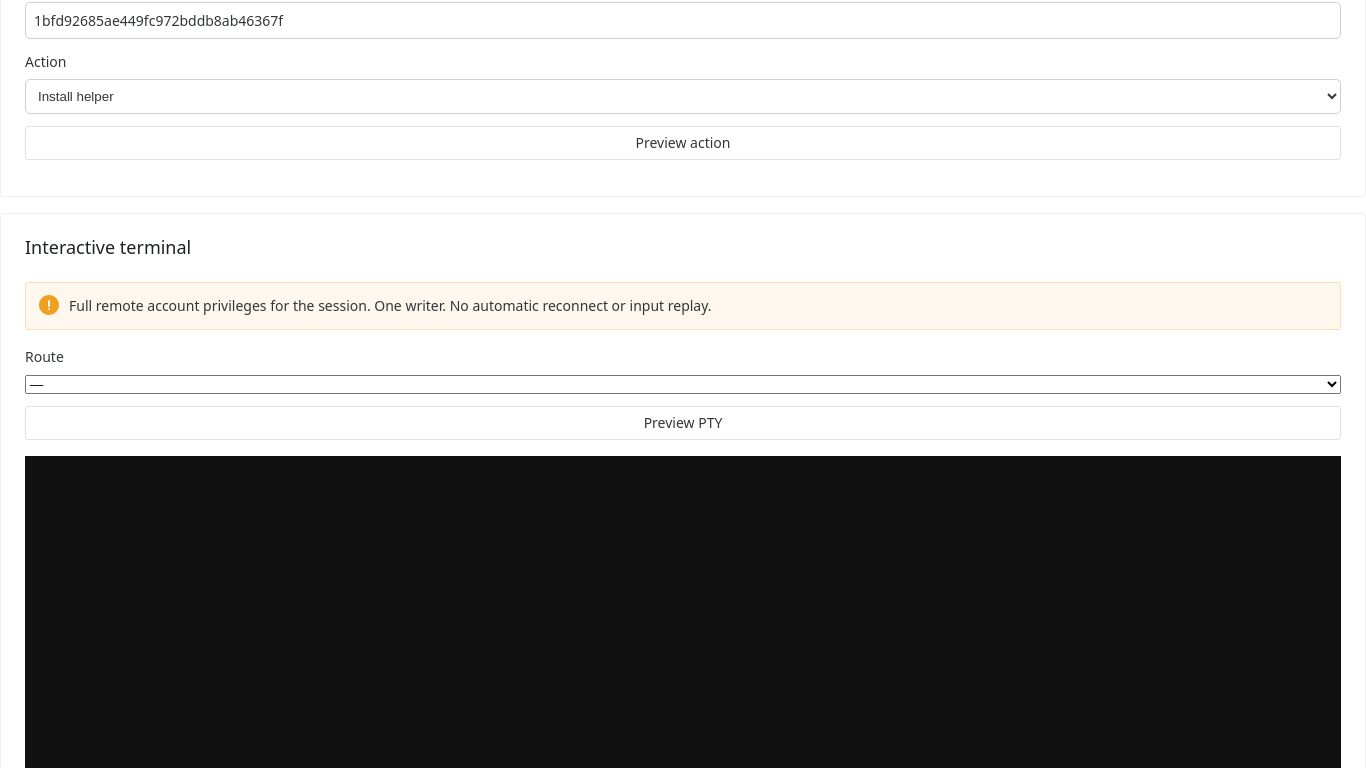
Advanced remote access consent and human terminal › ignores old terminal output and callbacks after disconnect and a separately approved reopen
(page scrolled)
Select "Target" in the dropdown labelled "Route" at (683, 384), box [25, 375, 1341, 394]
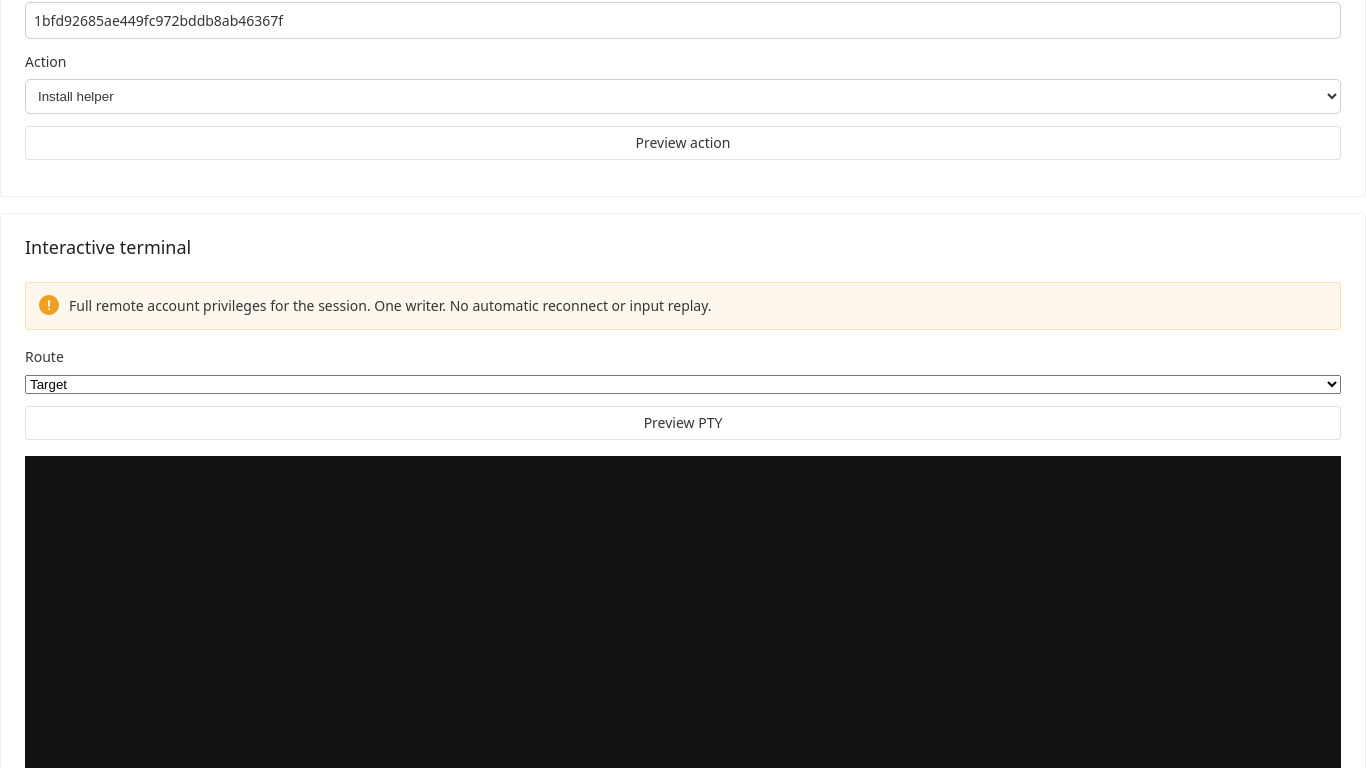
Submit the form "Route Preview PTY", box [25, 346, 1341, 440]
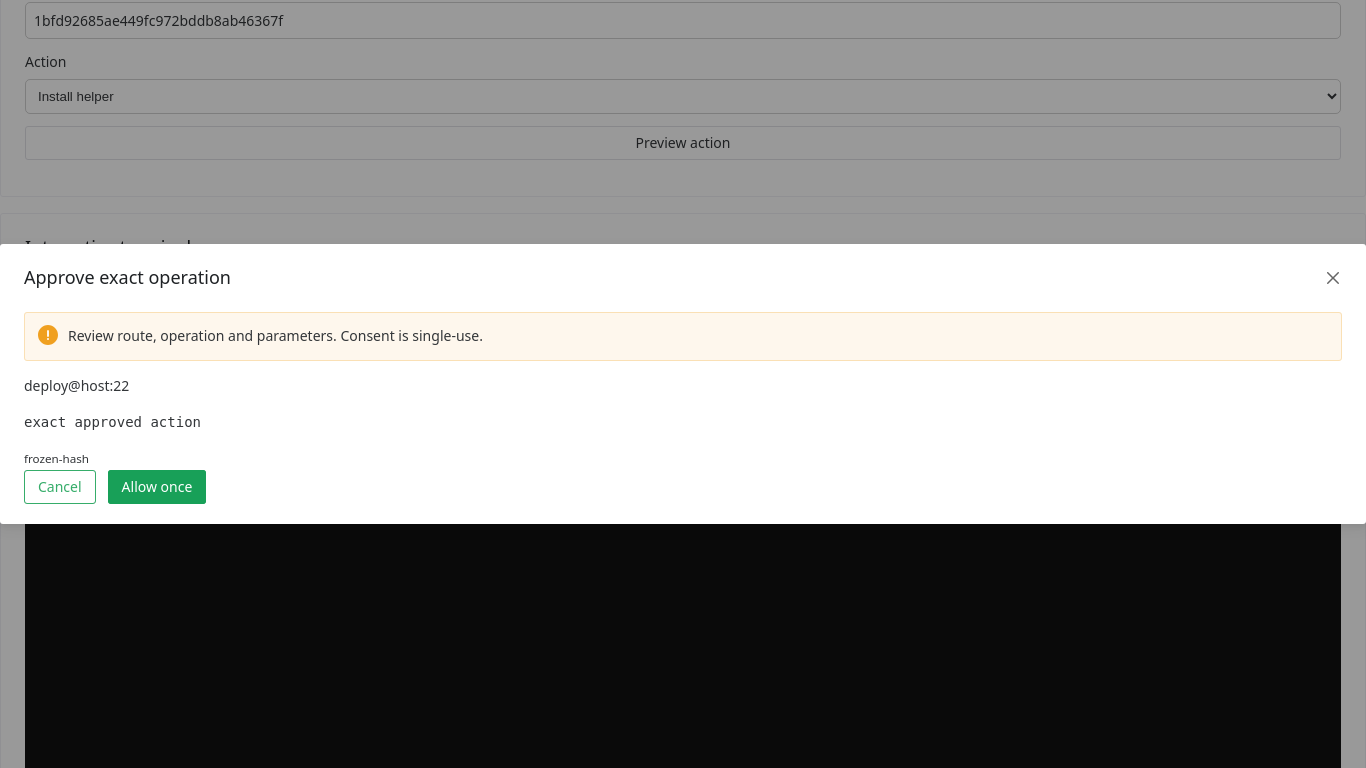
Click the button "Allow once" at (157, 487), box [108, 470, 206, 504]
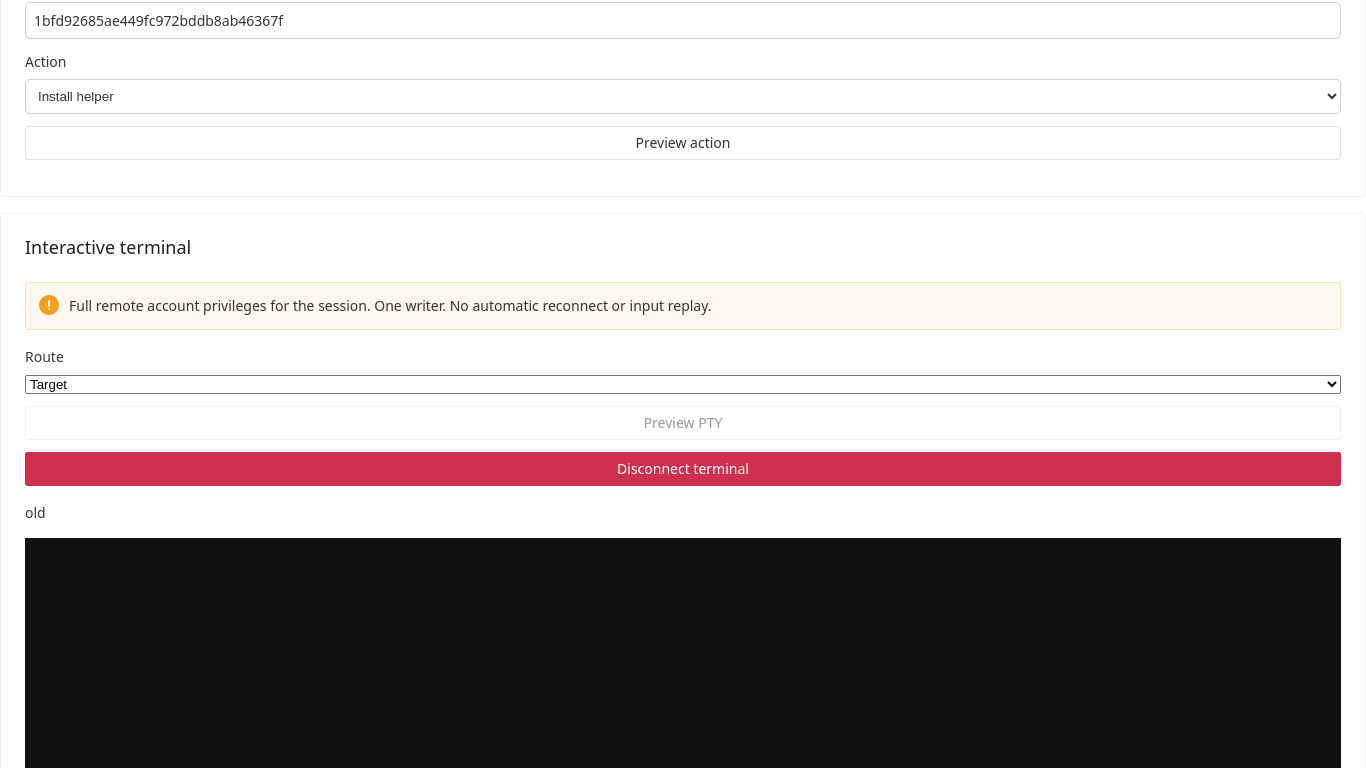
Click the button "Disconnect terminal" at (683, 469), box [25, 452, 1341, 486]
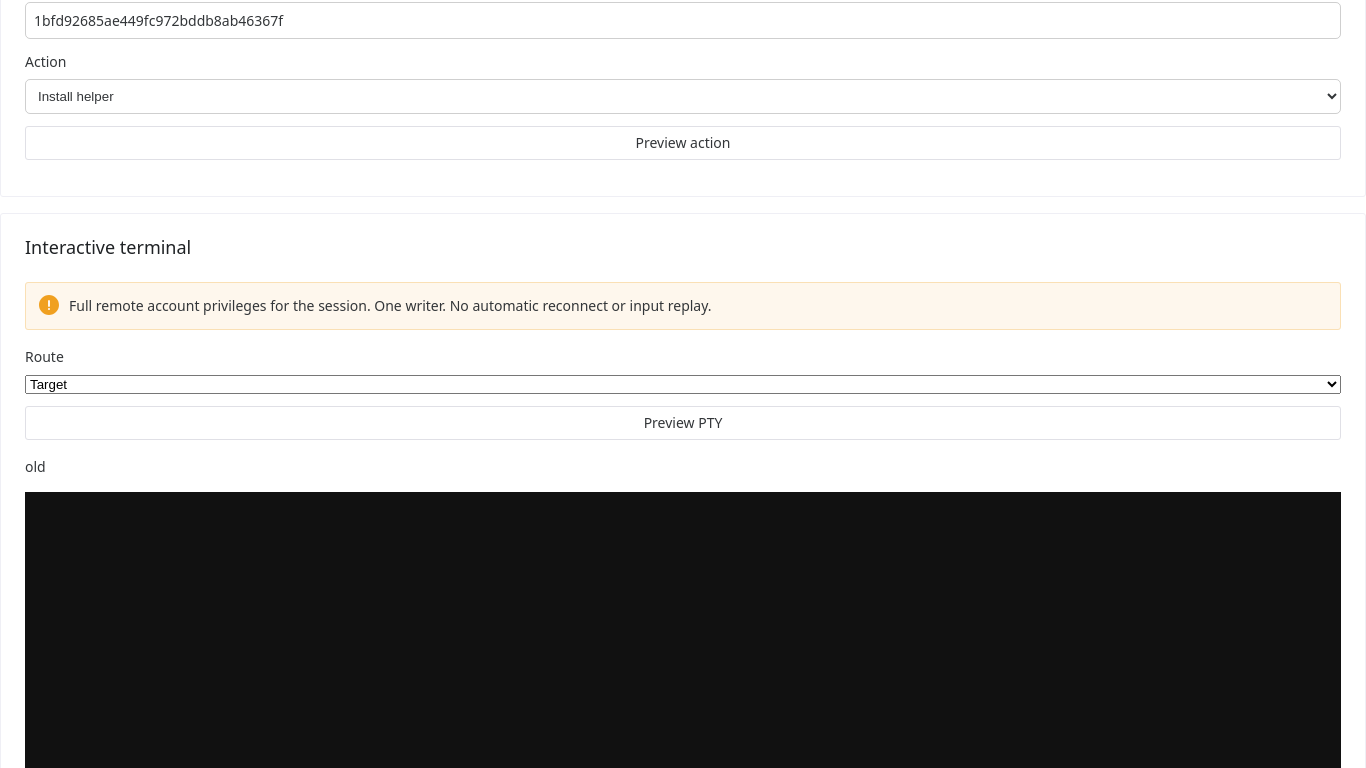
Select "Target" in the dropdown labelled "Route" at (683, 384), box [25, 375, 1341, 394]
Submit the form "Route Preview PTY", box [25, 346, 1341, 440]
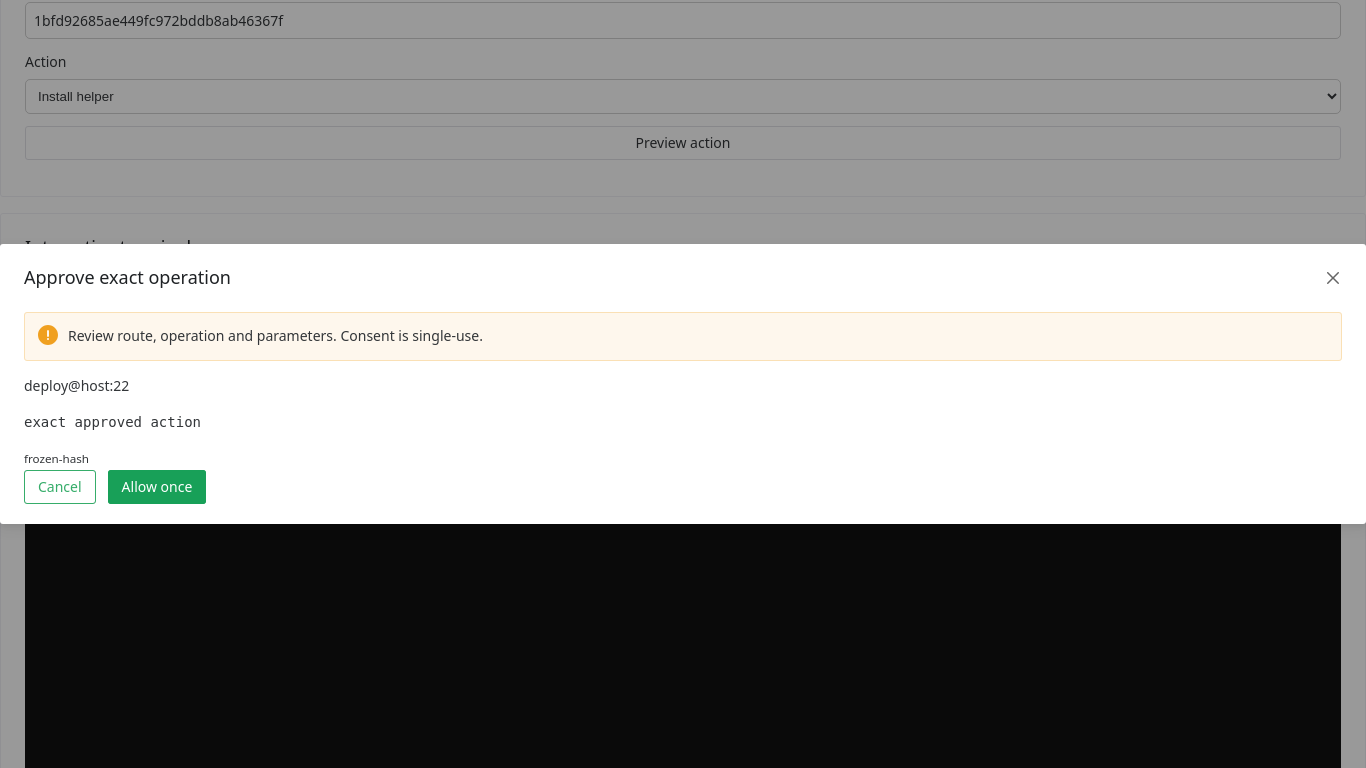
Click the button "Allow once" at (157, 487), box [108, 470, 206, 504]
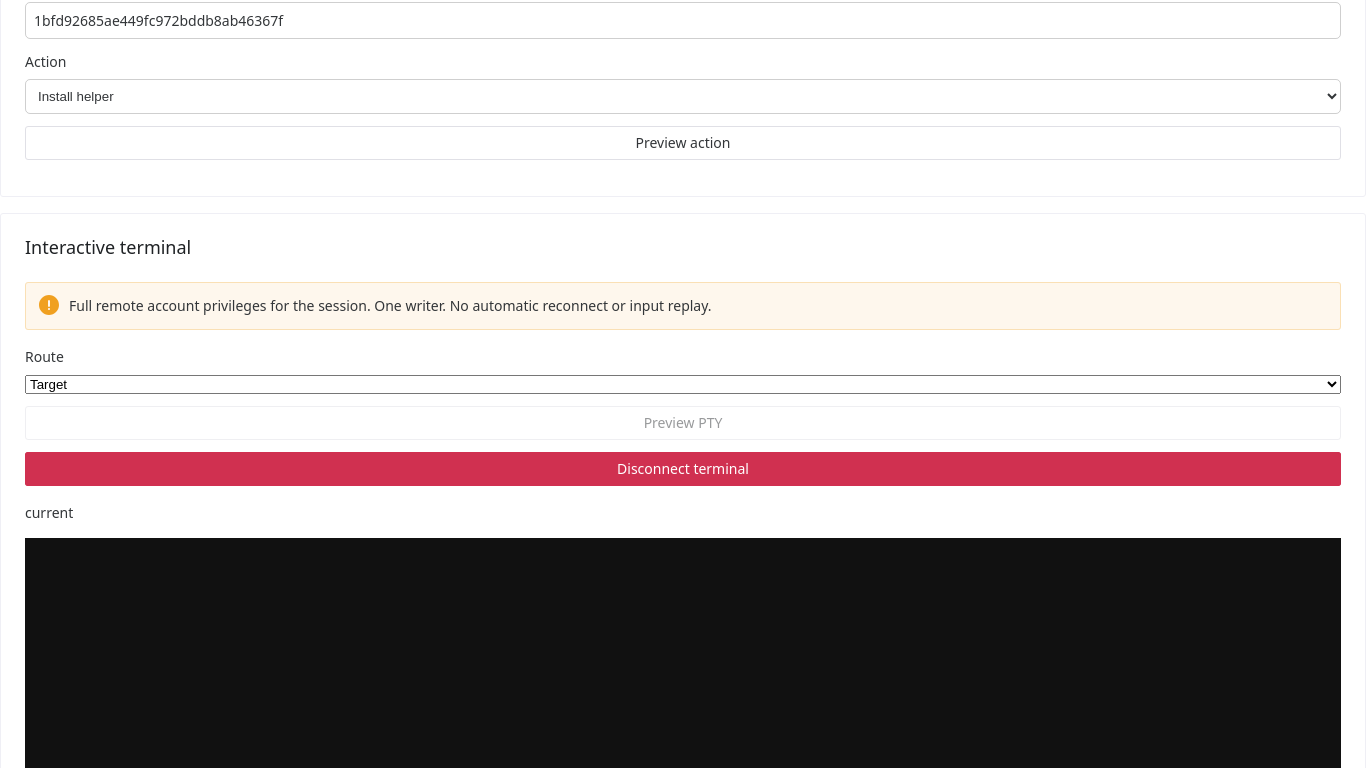
Check: the button "Disconnect terminal" is shown, box [25, 452, 1341, 486]
